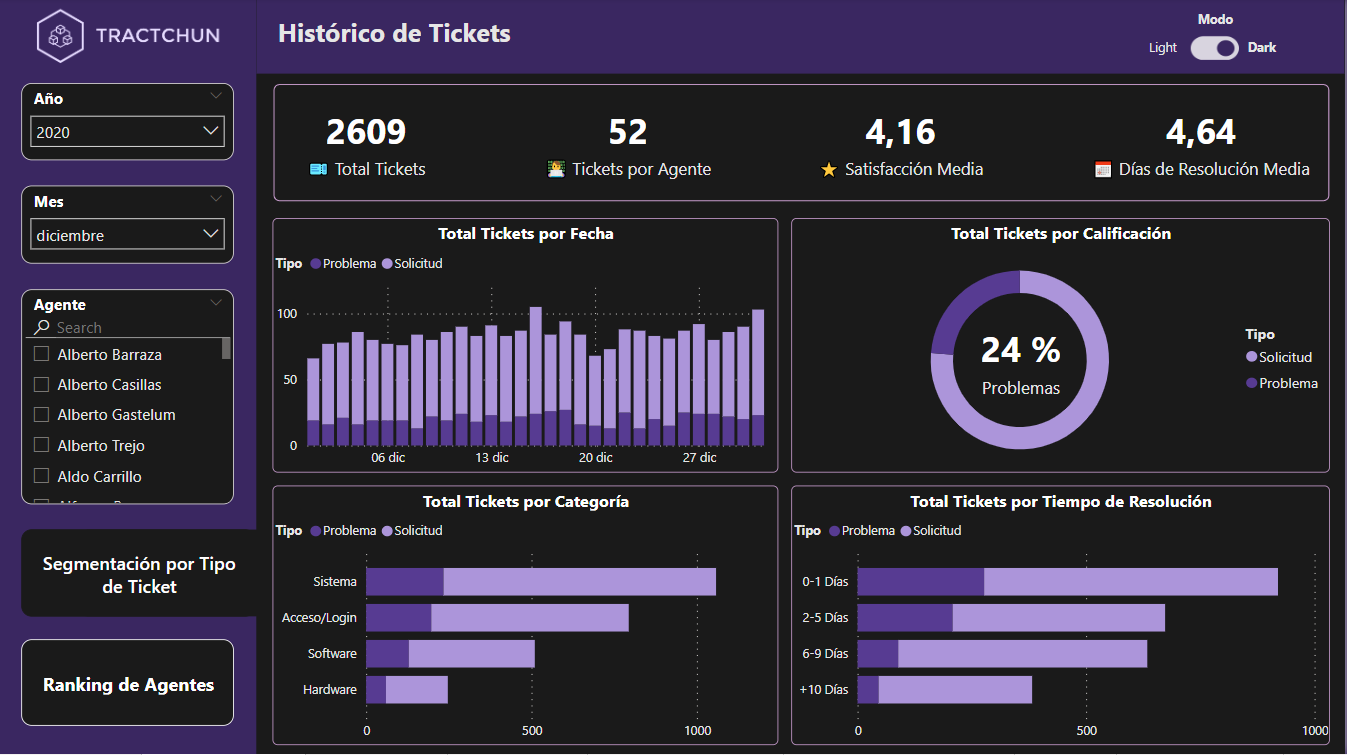

The dashboard page shown, as its layout file describes it:
{"tool":"powerbi","page":{"name":"Page 1","canvas":[1280,720],"ordinal":0},"visuals":[{"type":"shape","box":[243.6,0,1036,72.4],"z":0},{"type":"shape","box":[259.3,80.8,1007,113.4],"z":1000},{"type":"shape","box":[0,0,243.6,720],"z":2000},{"type":"card","fields":{"Values":["DAX Measure.Total Tickets"]},"box":[265.3,89.2,166.4,95.3],"z":3000},{"type":"slicer","fields":{"Values":["d_Calendario.Year"]},"box":[20.5,80.8,202.6,73.6],"z":4000},{"type":"card","fields":{"Values":["DAX Measure.Avg Satisfacción"]},"box":[769.4,89.2,174.9,95.3],"z":5000},{"type":"card","fields":{"Values":["DAX Measure.Tickets por Agente"]},"box":[504.1,89.2,186.9,95.3],"z":6000},{"type":"slicer","fields":{"Values":["d_Calendario.Mes"]},"box":[20.5,178.5,202.6,74.8],"z":7000},{"type":"image","box":[0,0,243.6,72.4],"z":8000},{"type":"slicer","fields":{"Values":["d_Agentes.Nombre"]},"box":[20.5,277.4,202.6,205],"z":9000},{"type":"textbox","box":[259.3,12.1,338.9,47],"z":10000},{"type":"card","fields":{"Values":["DAX Measure.Avg Resolución"]},"box":[1029.9,89.2,227.9,95.3],"z":11000},{"type":"areaChart","title":"Total Tickets por Fecha","fields":{"Y":["DAX Measure.Total Tickets"],"Category":["d_Calendario.Fecha"]},"box":[259.3,209.8,481.2,242.4],"z":12000},{"type":"donutChart","title":"Total Tickets por Calificación","fields":{"Y":["DAX Measure.Total Tickets"],"Category":["d_Satisfacción.Grupo"]},"box":[753.8,209.8,512.6,242.4],"z":13000},{"type":"barChart","title":"Total Tickets por Categoría","fields":{"Y":["DAX Measure.Total Tickets"],"Category":["f_Tickets.Categoría"]},"box":[259.3,464.3,481.2,247.2],"z":14000},{"type":"barChart","title":"Total Tickets por Tiempo de Resolución","fields":{"Y":["DAX Measure.Total Tickets"],"Category":["d_Resolución.Grupo"]},"box":[753.8,464.3,512.6,247.2],"z":15000},{"type":"card","fields":{"Values":["DAX Measure.% Positivos"]},"box":[885.2,303.9,101.3,76],"z":16000}]}

Visuals, with their boxes in screenshot pixels (x1, y1, x2, y2), scaled from the page's 1280x720 canvas onto the 1347x755 screenshot:
shape: (256,0,1346,76)
shape: (273,85,1333,204)
shape: (0,0,256,754)
card - DAX Measure.Total Tickets: (279,94,454,193)
slicer - d_Calendario.Year: (22,85,235,162)
card - DAX Measure.Avg Satisfacción: (810,94,994,193)
card - DAX Measure.Tickets por Agente: (530,94,727,193)
slicer - d_Calendario.Mes: (22,187,235,266)
image: (0,0,256,76)
slicer - d_Agentes.Nombre: (22,291,235,506)
textbox: (273,13,630,62)
card - DAX Measure.Avg Resolución: (1084,94,1324,193)
"Total Tickets por Fecha" areaChart: (273,220,779,474)
"Total Tickets por Calificación" donutChart: (793,220,1333,474)
"Total Tickets por Categoría" barChart: (273,487,779,746)
"Total Tickets por Tiempo de Resolución" barChart: (793,487,1333,746)
card - DAX Measure.% Positivos: (932,319,1038,398)
